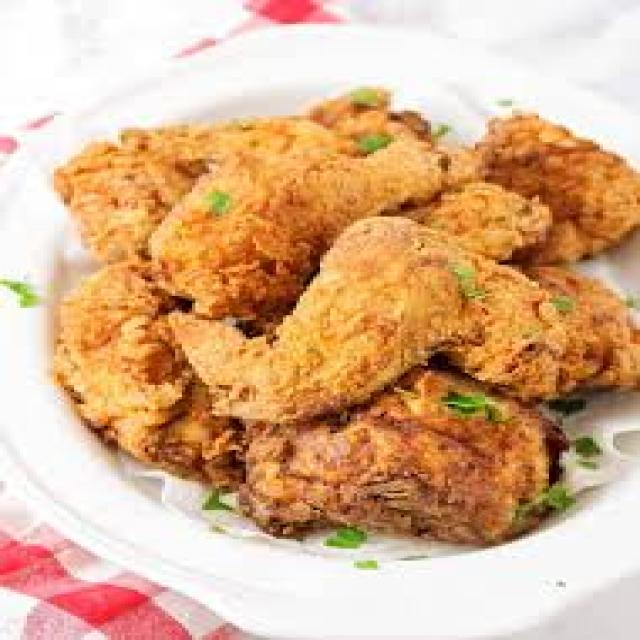Frango: (41, 91, 626, 551)
